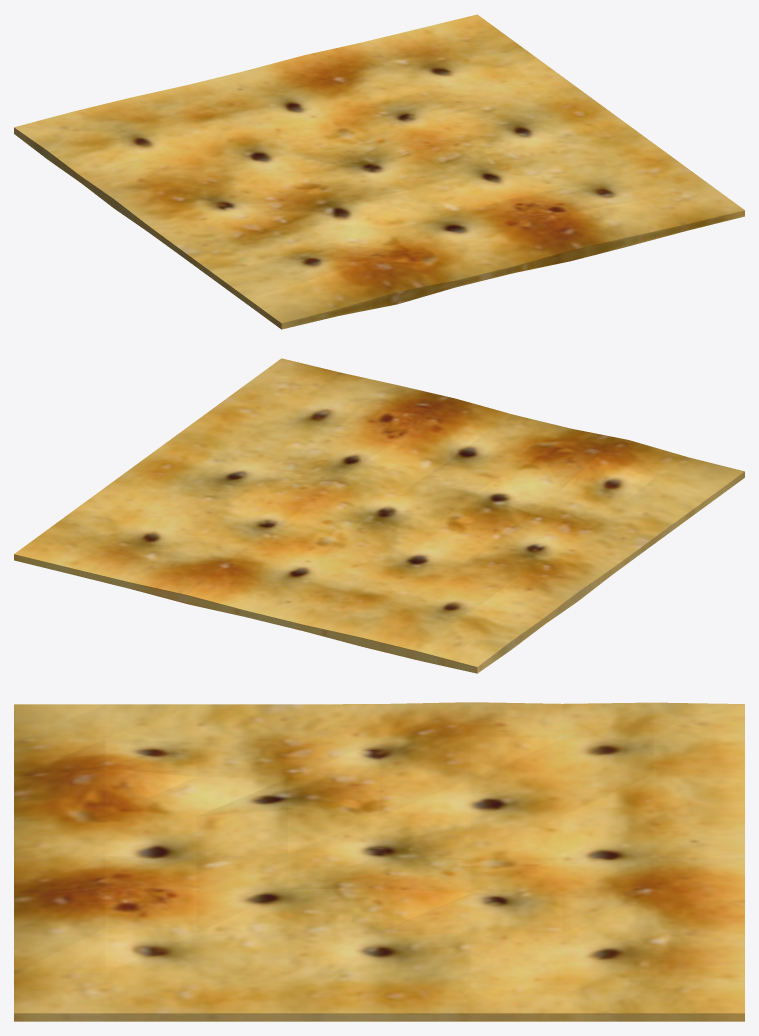
Rendered from saltine cracker.gltf.
3 renders of one model, top to bottom at view 1: azimuth 30°, elevation 25°; view 2: azimuth 150°, elevation 25°; view 3: azimuth 270°, elevation 25°, orthographic. The views are drawn at different scales.
Parts seen in each view (by area): view 1: node-0; view 2: node-0; view 3: node-0.
Part boxes in pixels (left/top/right/bottom): node-0: left=14, top=14, right=744, bottom=329; node-0: left=14, top=358, right=744, bottom=673; node-0: left=14, top=702, right=744, bottom=1021.
Bounding box in the file's own units: 1 × 0.0527 × 1.
Materials: 1 (1 with a texture image).
